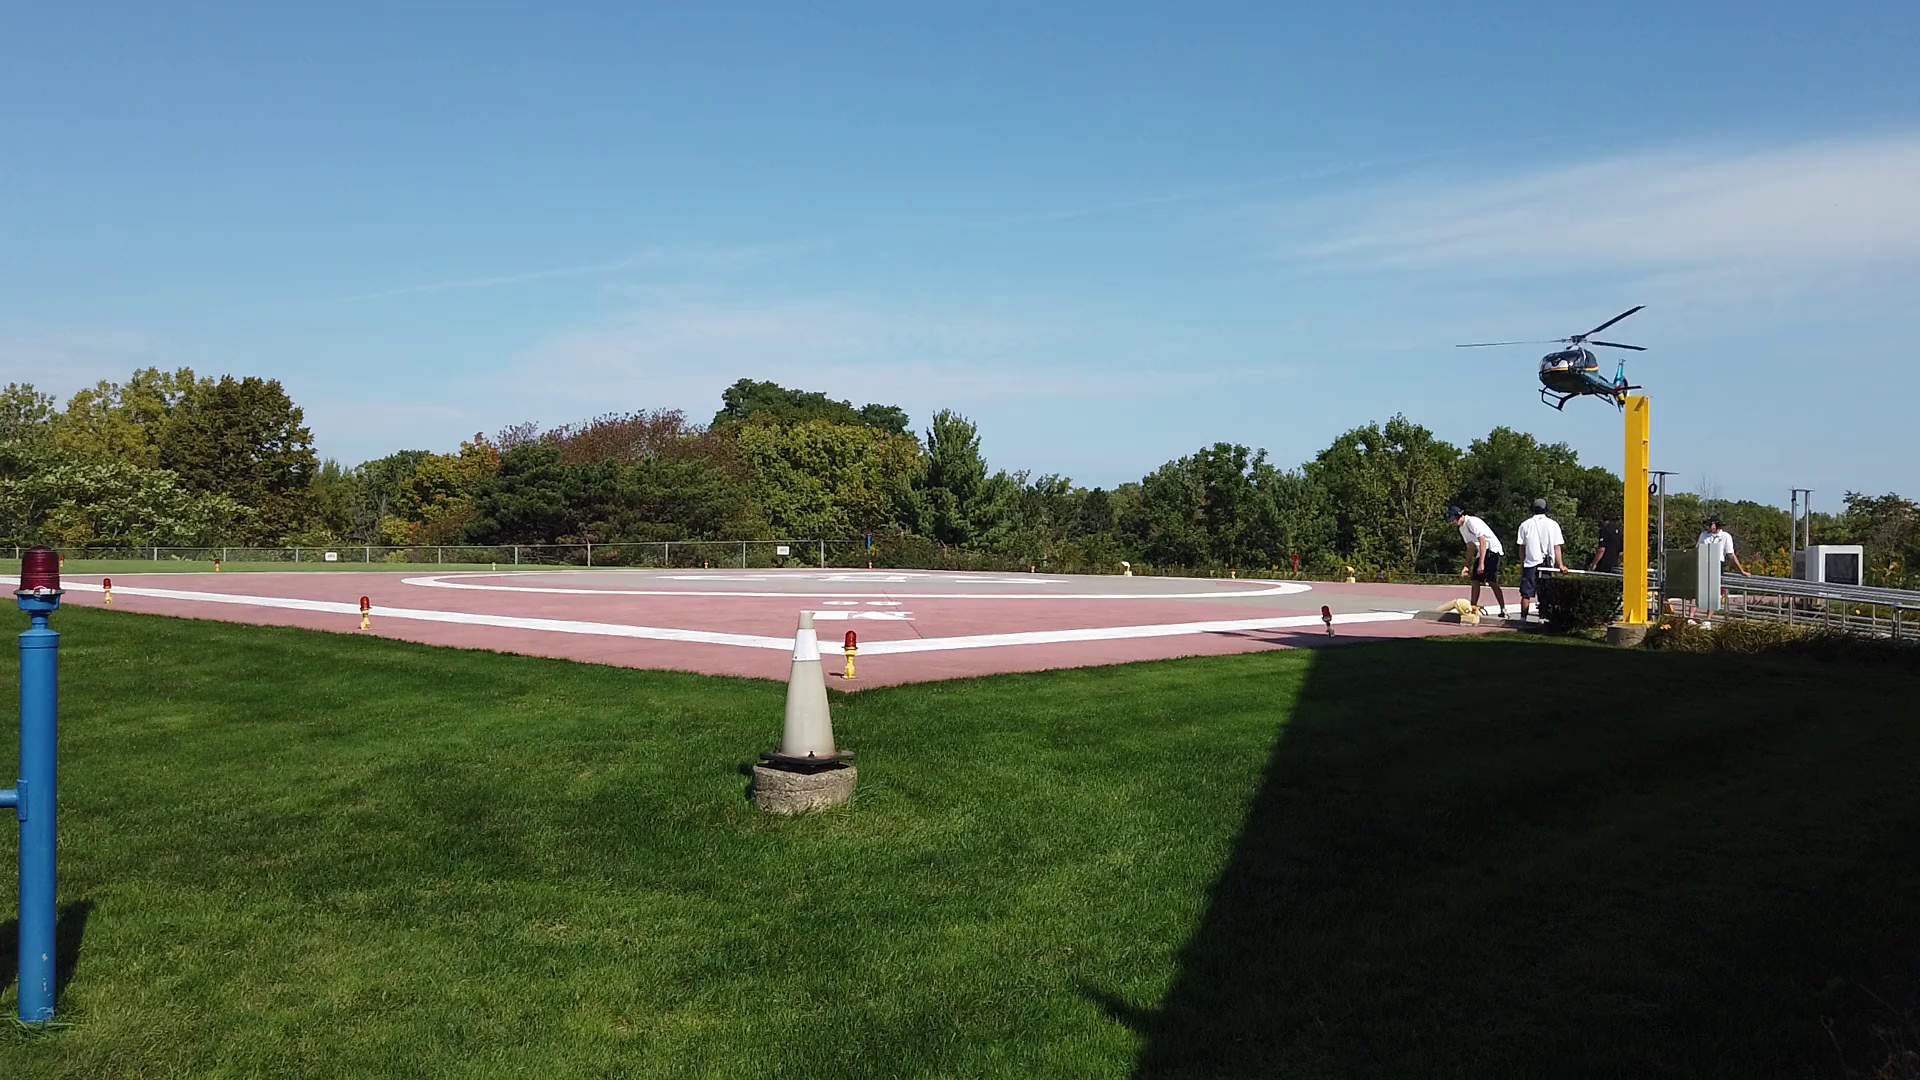heli: (1455, 302, 1642, 411)
